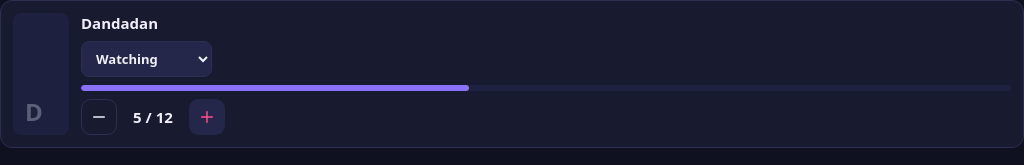
Test: WatchlistRow › changes the status from the select
Select "Completed" in the dropdown named "Status: Dandadan" at (146, 59), box [81,41,212,77]
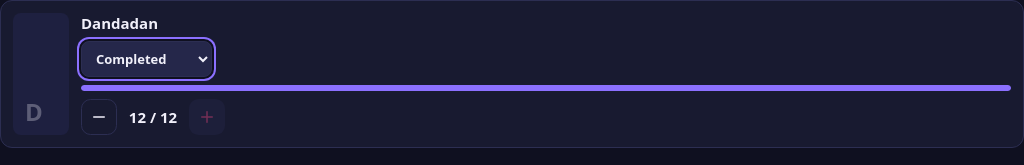
Result: the text "12 / 12" is shown at [125,106,181,128]
